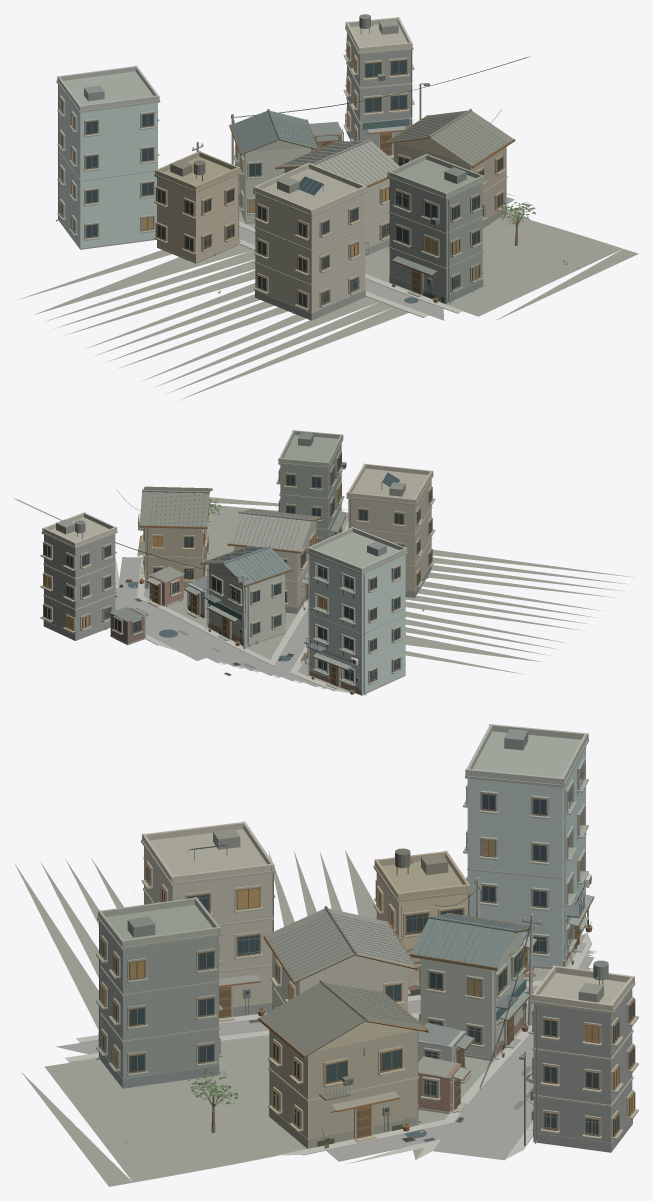
The model's file is street_5_4.glb.
3 views of the same model, one above another, from view 1: azimuth 30°, elevation 25°; view 2: azimuth 150°, elevation 25°; view 3: azimuth 270°, elevation 25° (orthographic). The views are drawn at different scales.
Parts seen in each view (by area): view 1: ground.077, trim.006, plaster.006, mint_plaster, concrete.009, wood.006, hero_plaster.001, roof_tile.005, glass.006, roof_metal.006, graybrick.005, metal.006 (+3 smaller); view 2: trim.006, ground.077, plaster.006, mint_plaster, wood.006, road.020, concrete.009, graybrick.005, roof_metal.006, roof_tile.005, glass.006, hero_plaster.001 (+7 smaller); view 3: trim.006, ground.077, concrete.009, plaster.006, mint_plaster, graybrick.005, roof_metal.006, wood.006, roof_tile.005, road.020, hero_plaster.001, metal.006 (+8 smaller).
Boxes of the visible parts, x1,y1,x2,y2 form: ground.077: (19, 208, 638, 400); trim.006: (56, 23, 507, 310); plaster.006: (57, 17, 484, 313); mint_plaster: (59, 86, 157, 248); concrete.009: (58, 114, 506, 296); wood.006: (59, 42, 524, 308); hero_plaster.001: (157, 148, 311, 261); roof_tile.005: (231, 109, 513, 165); glass.006: (61, 44, 502, 306); roof_metal.006: (84, 19, 466, 274); graybrick.005: (255, 33, 506, 320); metal.006: (56, 14, 504, 305); trim.006: (40, 435, 435, 688); ground.077: (144, 497, 635, 692); plaster.006: (42, 430, 433, 607); mint_plaster: (309, 554, 405, 694); wood.006: (42, 452, 432, 686); road.020: (115, 557, 326, 689); concrete.009: (110, 444, 405, 695); graybrick.005: (43, 527, 431, 640); roof_metal.006: (56, 432, 405, 669); roof_tile.005: (139, 487, 311, 585); glass.006: (44, 452, 431, 681); hero_plaster.001: (188, 564, 284, 645); trim.006: (96, 731, 638, 1142); ground.077: (14, 850, 586, 1186); concrete.009: (100, 877, 586, 1139); plaster.006: (98, 724, 634, 1051); mint_plaster: (467, 747, 585, 966); graybrick.005: (99, 933, 632, 1152); roof_metal.006: (127, 729, 603, 1110); wood.006: (99, 769, 635, 1144); roof_tile.005: (260, 906, 530, 1055); road.020: (55, 950, 596, 1161); hero_plaster.001: (376, 873, 523, 1064); metal.006: (96, 761, 608, 1145).
Size of the model in its own units: 52.07 by 13.42 by 38.51.
